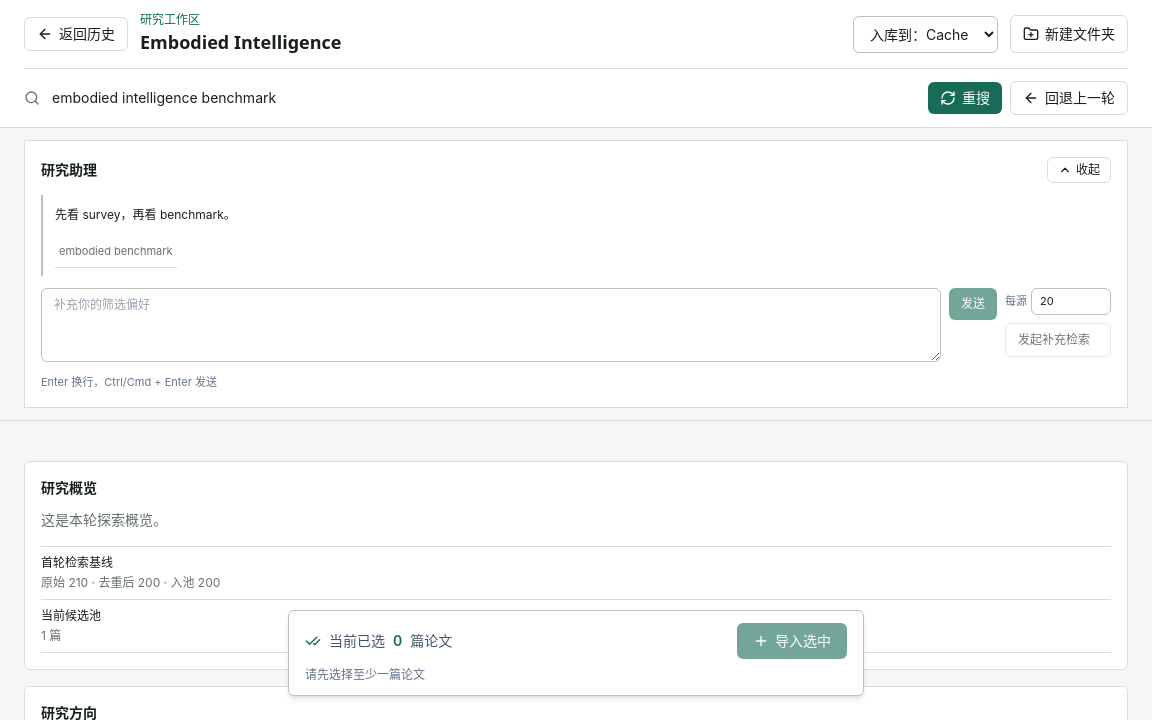
Scenario: SessionDetailPanel › redacts sensitive values in chat runtime failures
The width and height of the screenshot is (1152, 720).
Step 1. Type "请重新压缩候选" into the text box with placeholder "补充你的筛选偏好" → coordinates (491, 325), box [41, 288, 941, 362]
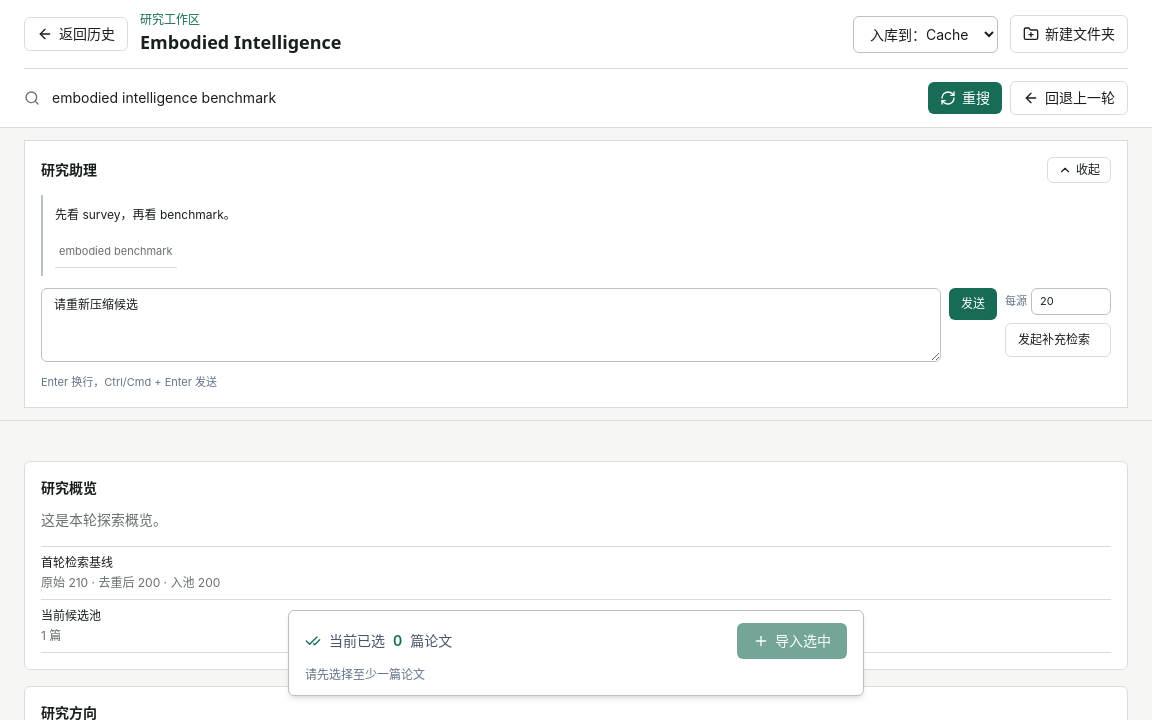
Step 2. Click the button "发送" → coordinates (973, 304), box [949, 288, 997, 320]
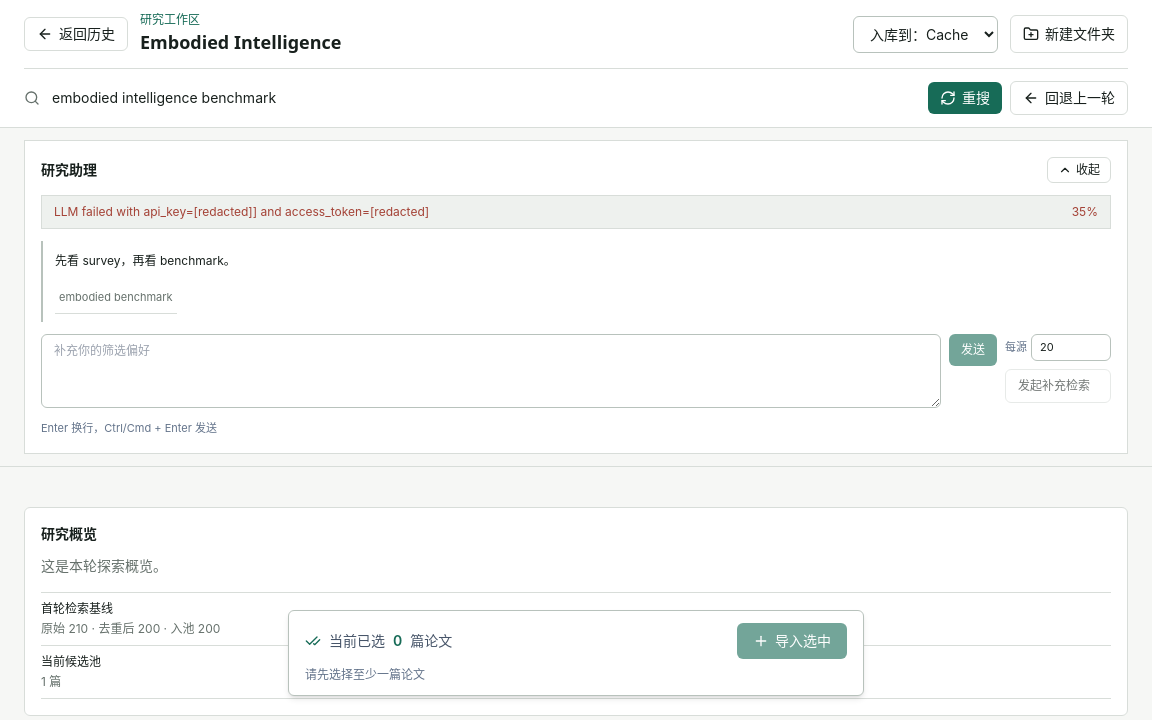
Expected: the text "api_key=[redacted]" is shown, [54, 204, 429, 219]
Expected: the text "access_token=[redacted]" is shown, [54, 204, 429, 219]
